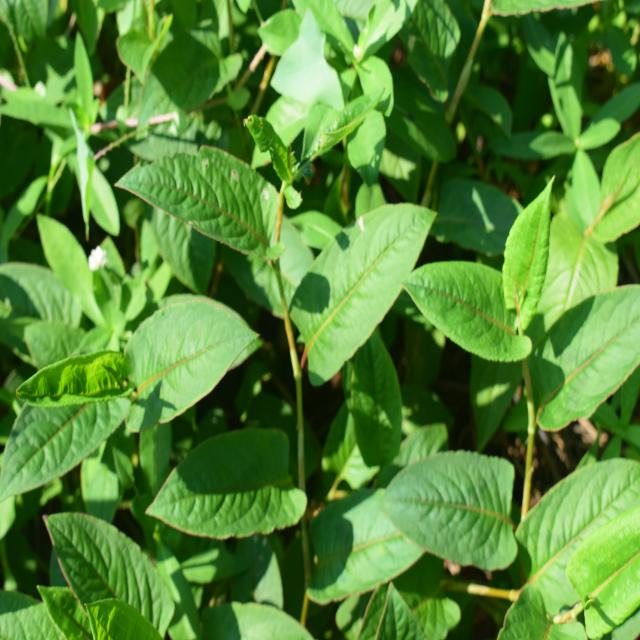Chinese_knotweed: (127, 104, 407, 522), (403, 194, 629, 618)
